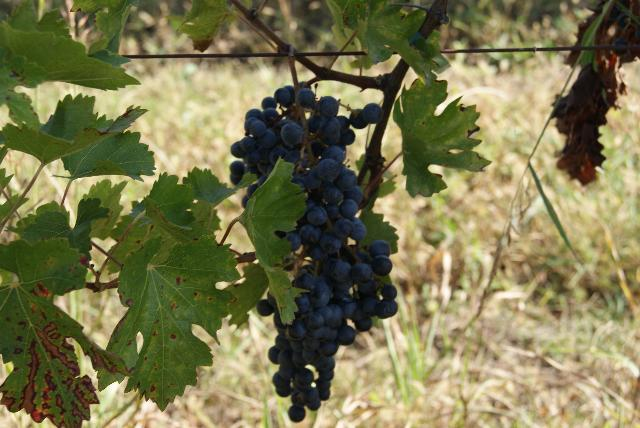grapes: (230, 86, 381, 261), (258, 258, 398, 422)
